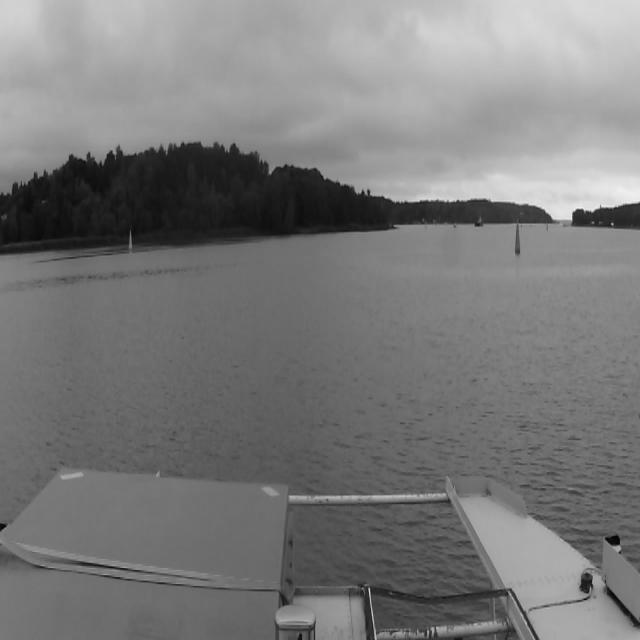buoy: (514, 219, 520, 253), (128, 229, 133, 251), (546, 222, 548, 231)
